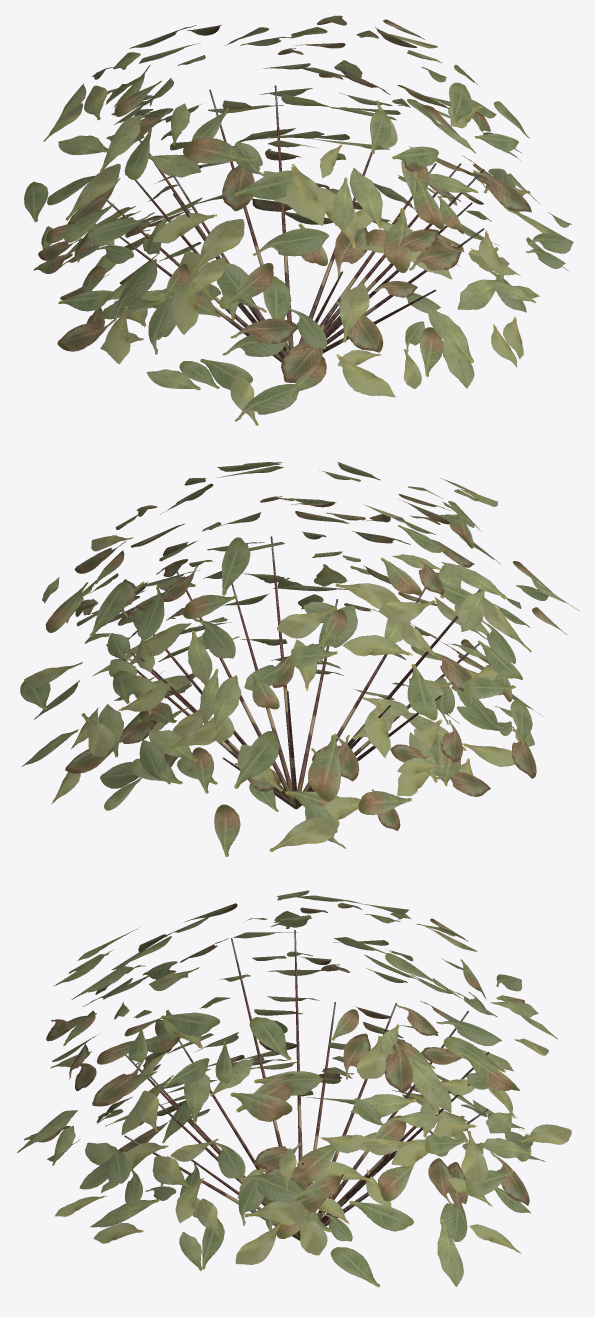
File: coastal-broadleaf.glb
3 views of the same model, one above another, from view 1: azimuth 30°, elevation 25°; view 2: azimuth 150°, elevation 25°; view 3: azimuth 270°, elevation 25° (orthographic). The views are drawn at different scales.
Parts seen in each view (by area): view 1: Coastal broadleaf; view 2: Coastal broadleaf; view 3: Coastal broadleaf.
Boxes of the visible parts, x1=… form: Coastal broadleaf: x1=24, y1=15, x2=573, y2=425; Coastal broadleaf: x1=20, y1=462, x2=579, y2=856; Coastal broadleaf: x1=17, y1=890, x2=571, y2=1287.
Bounding box in the file's own units: 1.96 × 1.14 × 1.97.
1 material, 1 textured.
